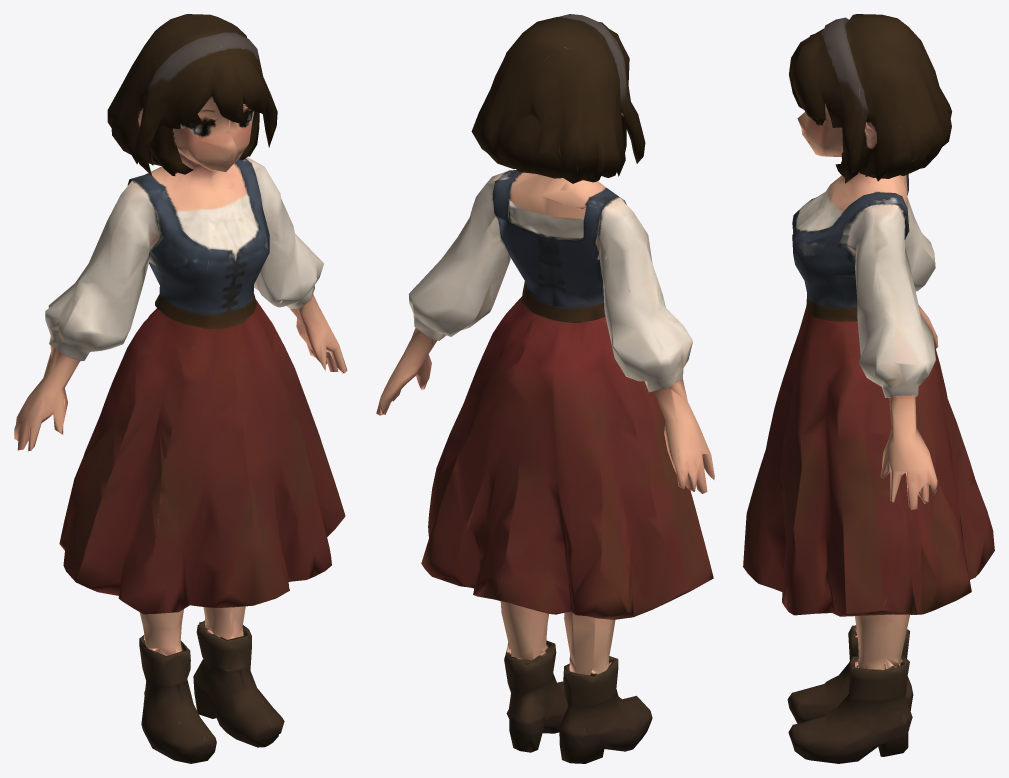
File: villager_female_surface.glb
3 views of the same model, side by side, from view 1: azimuth 30°, elevation 25°; view 2: azimuth 150°, elevation 25°; view 3: azimuth 270°, elevation 25° (orthographic).
Parts seen in each view (by area): view 1: VillagerFemaleBody; view 2: VillagerFemaleBody; view 3: VillagerFemaleBody.
Boxes of the visible parts, x1,y1,x2,y2 form: VillagerFemaleBody: [14, 14, 347, 763]; VillagerFemaleBody: [376, 14, 714, 763]; VillagerFemaleBody: [743, 14, 994, 763].
Bounding box in the file's own units: 0.7806 × 1.65 × 0.5243.
1 material, 1 textured.
